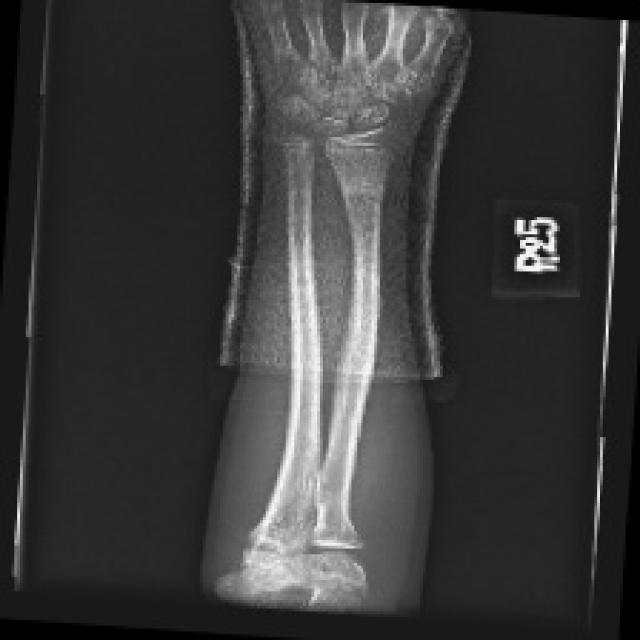fracture: (237, 508, 443, 624)
